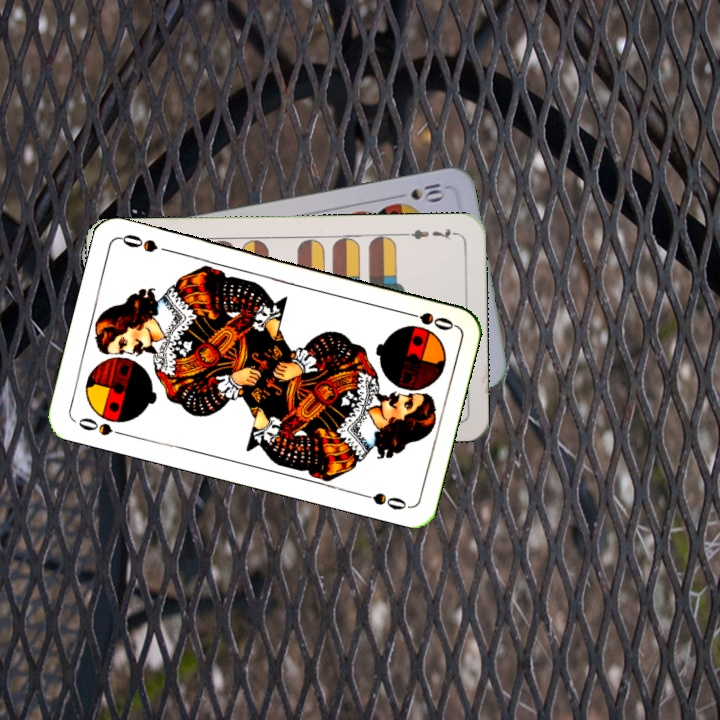E7: (401, 224, 460, 242)
S10: (390, 179, 447, 203)
SO: (398, 307, 456, 333), (71, 413, 129, 439)
